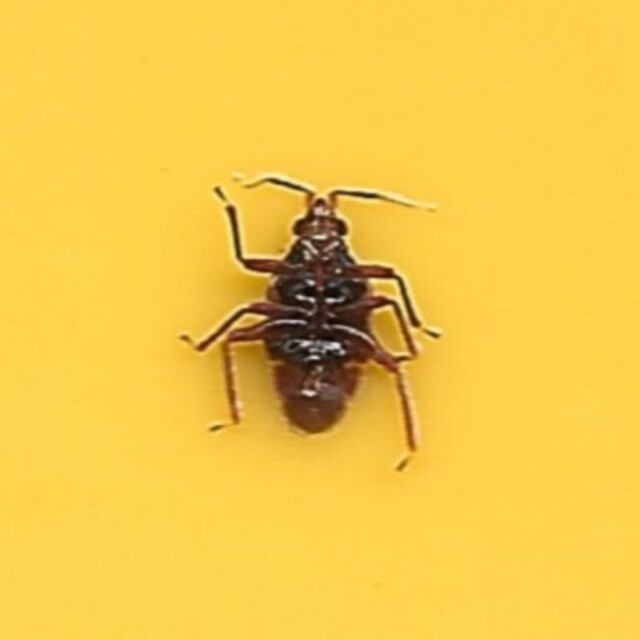Hemiptera: (196, 169, 444, 471)
